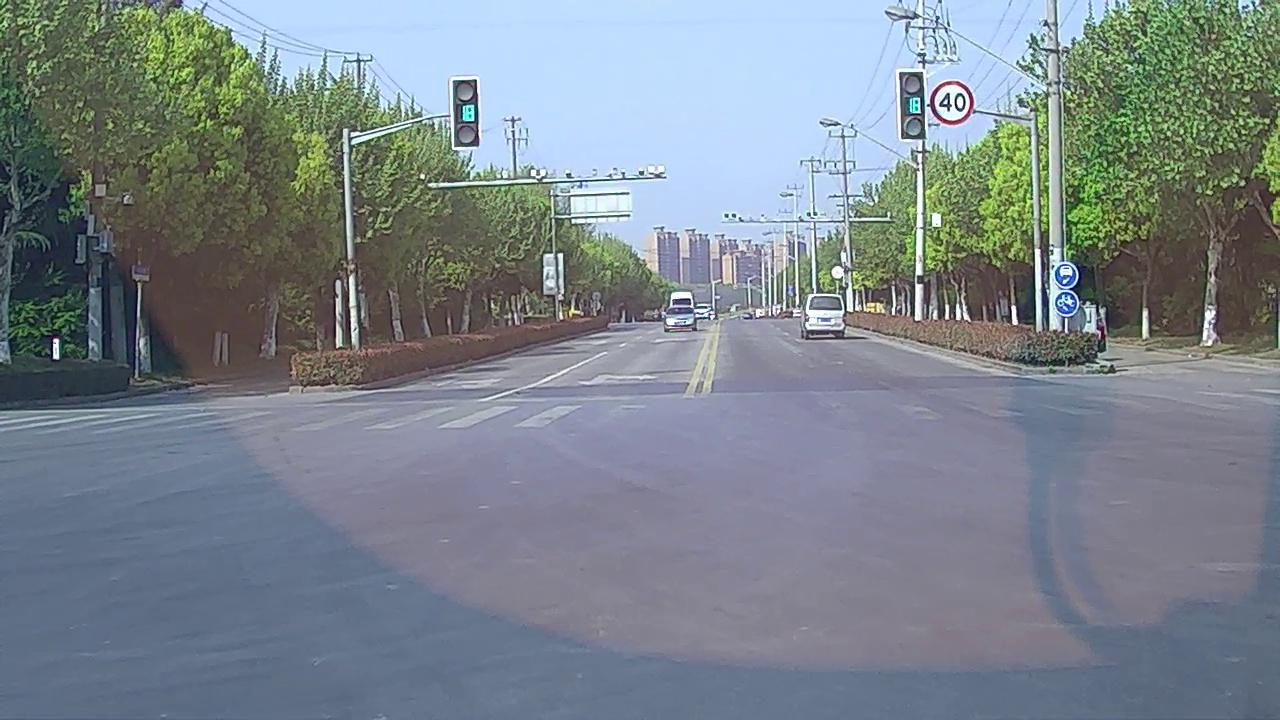traffic_light: (453, 79, 478, 146), (900, 72, 923, 138)
